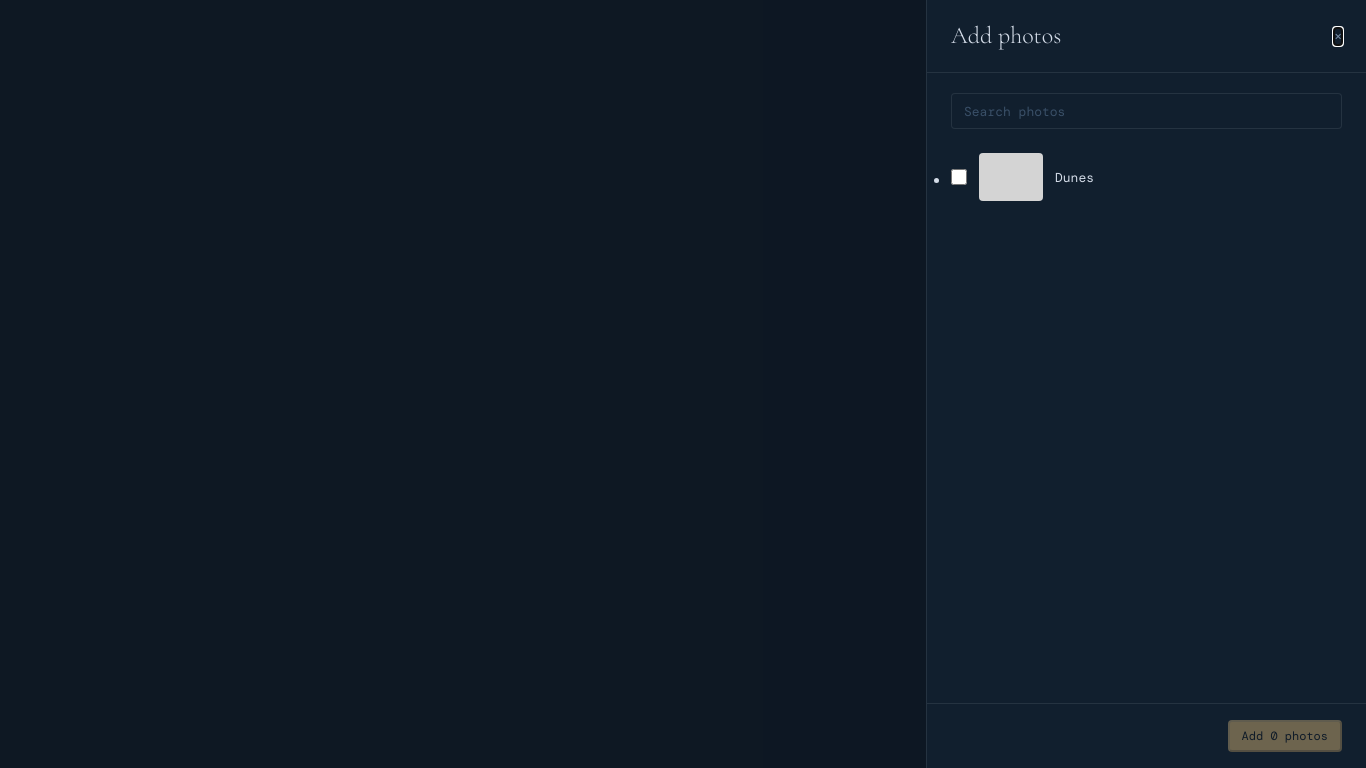
Test: PhotoPicker › shows singular label when exactly one photo is selected
Expected: the text "Dunes" is shown, [1055, 168, 1094, 186]
Click the checkbox named "Select Dunes".
click(959, 177)  # box [951, 169, 967, 185]
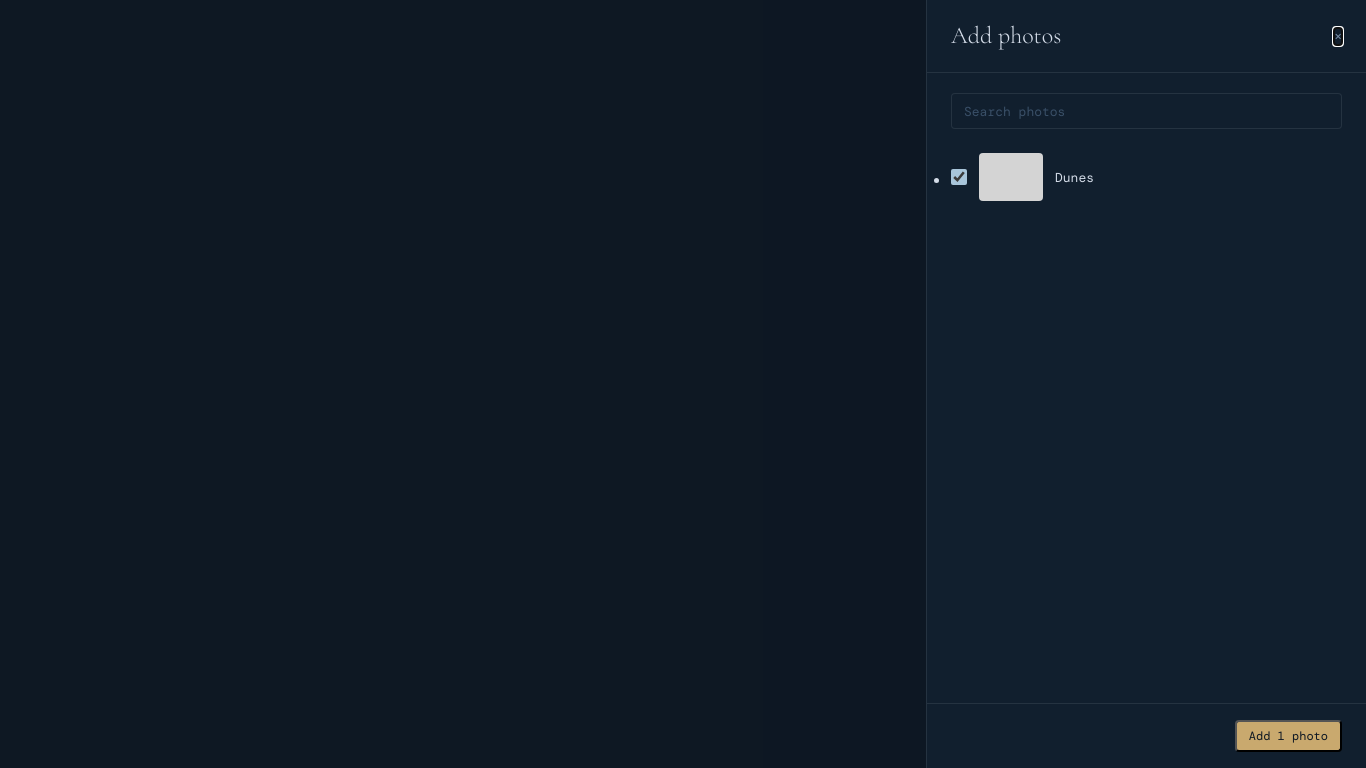
Expected: the button "Add 1 photo" is shown, [1235, 720, 1342, 752]
